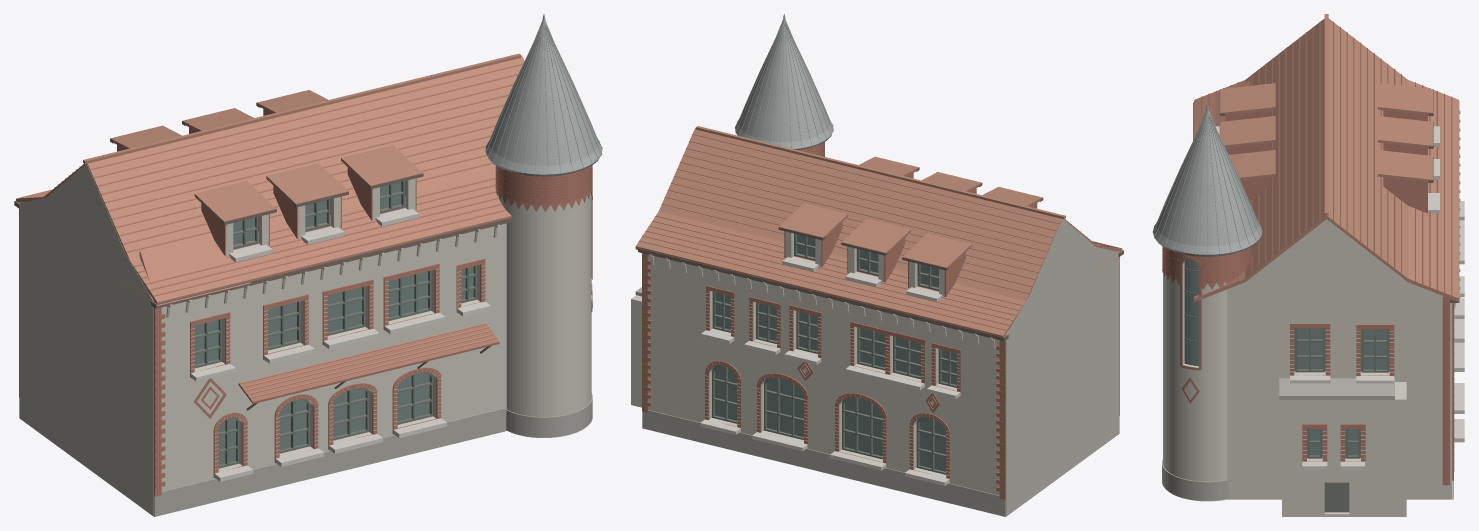
The model's file is xuhui-yongjia-road-501-residence-web.glb.
The picture shows the model from 3 angles, left to right: view 1: azimuth 30°, elevation 25°; view 2: azimuth 150°, elevation 25°; view 3: azimuth 270°, elevation 25°; orthographic projection. The views are drawn at different scales.
Parts seen in each view (by area): view 1: 永嘉路501号住宅北街面、圆塔与花园立面; view 2: 永嘉路501号住宅北街面、圆塔与花园立面; view 3: 永嘉路501号住宅北街面、圆塔与花园立面.
Boxes of the visible parts, x1,y1,x2,y2 form: 永嘉路501号住宅北街面、圆塔与花园立面: (14, 14, 602, 516); 永嘉路501号住宅北街面、圆塔与花园立面: (631, 14, 1123, 516); 永嘉路501号住宅北街面、圆塔与花园立面: (1152, 14, 1464, 516).
Bounding box in the file's own units: 17.3 × 13.83 × 10.35.
